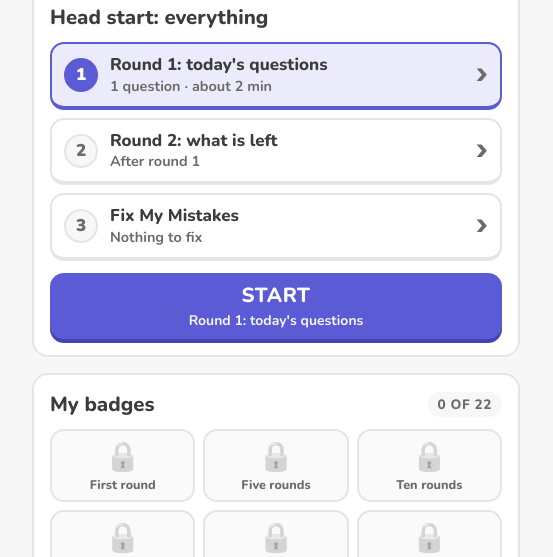
Test case: explaining an answer › gives the teacher's definition and the same thing in simple words on a flashcard, and reads both
(page scrolled)
Click the button "Start Round 1: today's questions": (276, 306) [50,273,502,339]
(page scrolled)
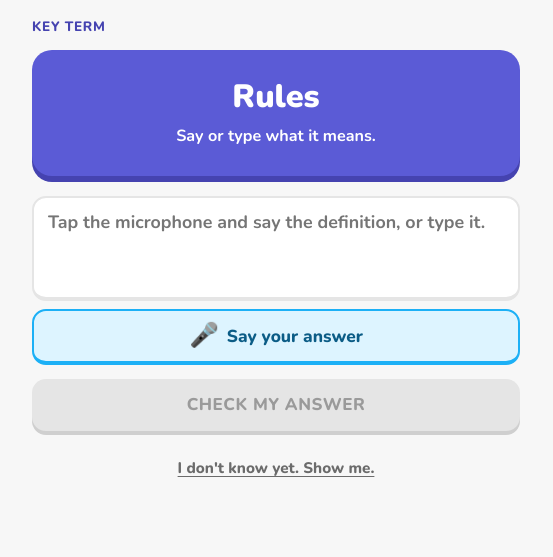
Expected: the text "Rules are what a group agrees to do." is not shown
Click the button "I don't know yet. Show me.": (276, 469) [162,445,390,493]
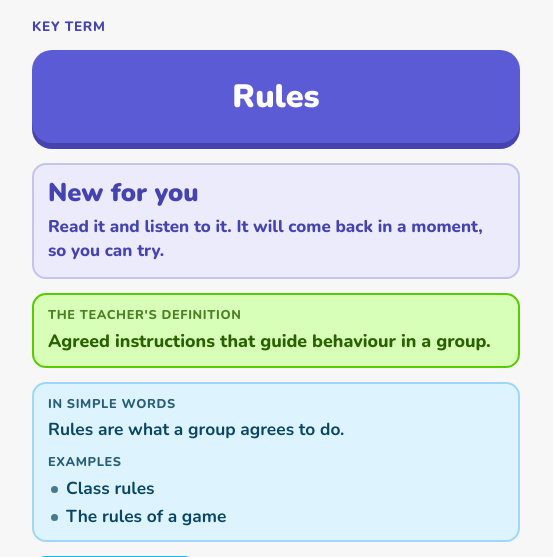
Expected: the text "Agreed instructions that guide behaviour in a group." is shown, [48,329,491,353]
Expected: the text "Rules are what a group agrees to do." is shown, [48,418,344,442]
Expected: the list item "Class rules" is shown, [66,476,154,500]
